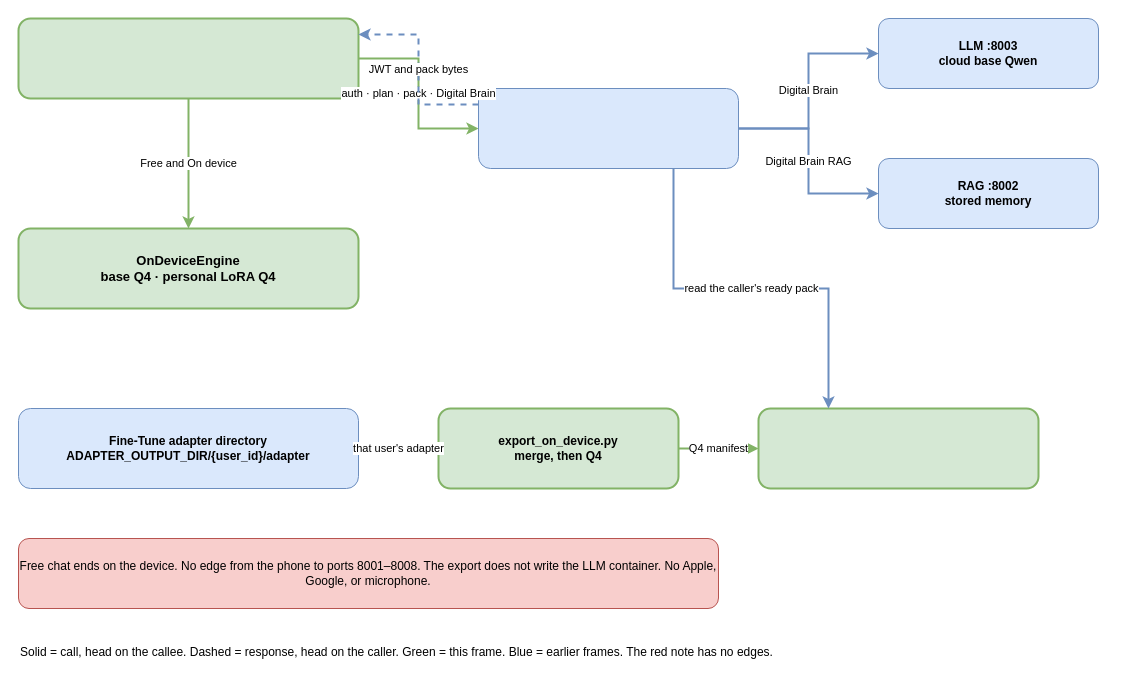
Image size: 1135x685. Some labels were removed from this diagram. Each missing label, with the centre of its shape:
"API Router :8000 the phone's only server" goes at pixel 608 128.
"iPhone app Auth · Local AI Chat · Status · Free vs Premium · Settings" goes at pixel 188 58.
"Q4 packs base/ and users/{user_id}/" goes at pixel 898 448.
